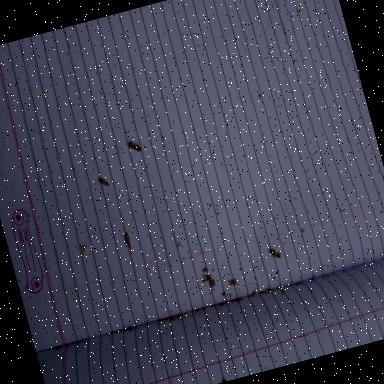pbw: (120, 226, 136, 252), (268, 240, 284, 260), (125, 136, 142, 154), (76, 241, 92, 258), (98, 175, 110, 188), (200, 272, 212, 282)
